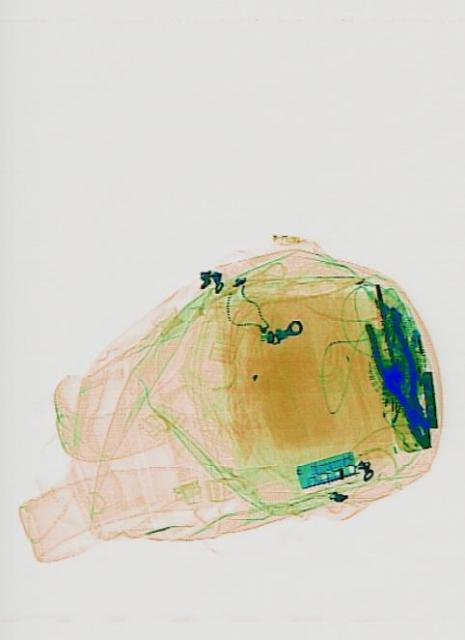Pliers: (360, 305, 445, 457)
